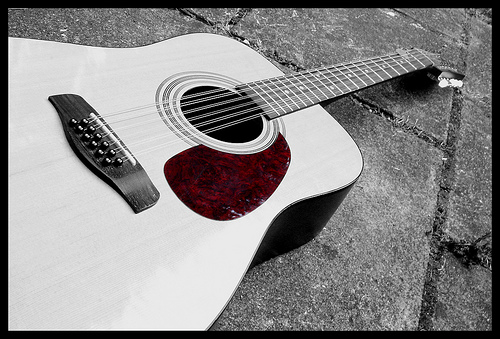guitar: (7, 33, 467, 330)
